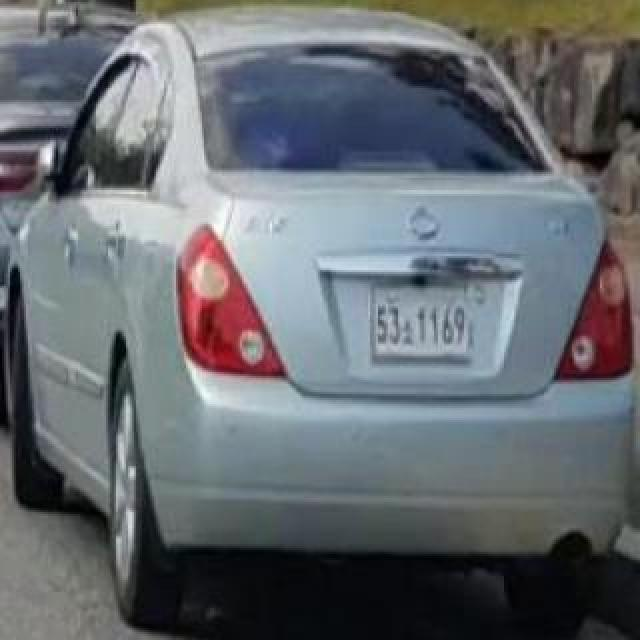car: (0, 4, 640, 626)
illegal_plate: (369, 276, 493, 372)
